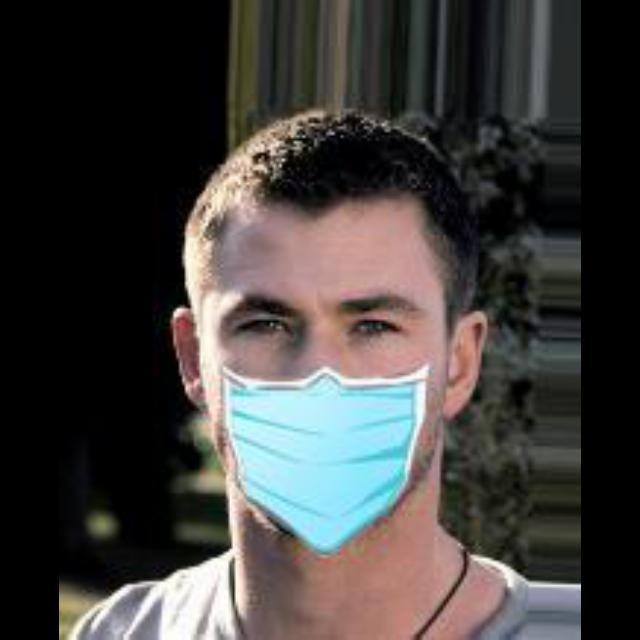suspicion: (169, 123, 497, 563)
